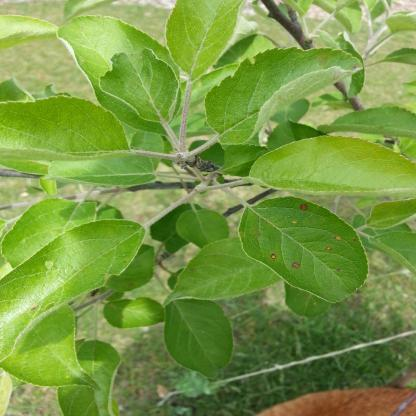Apple rust leaf: (261, 25, 405, 136)
